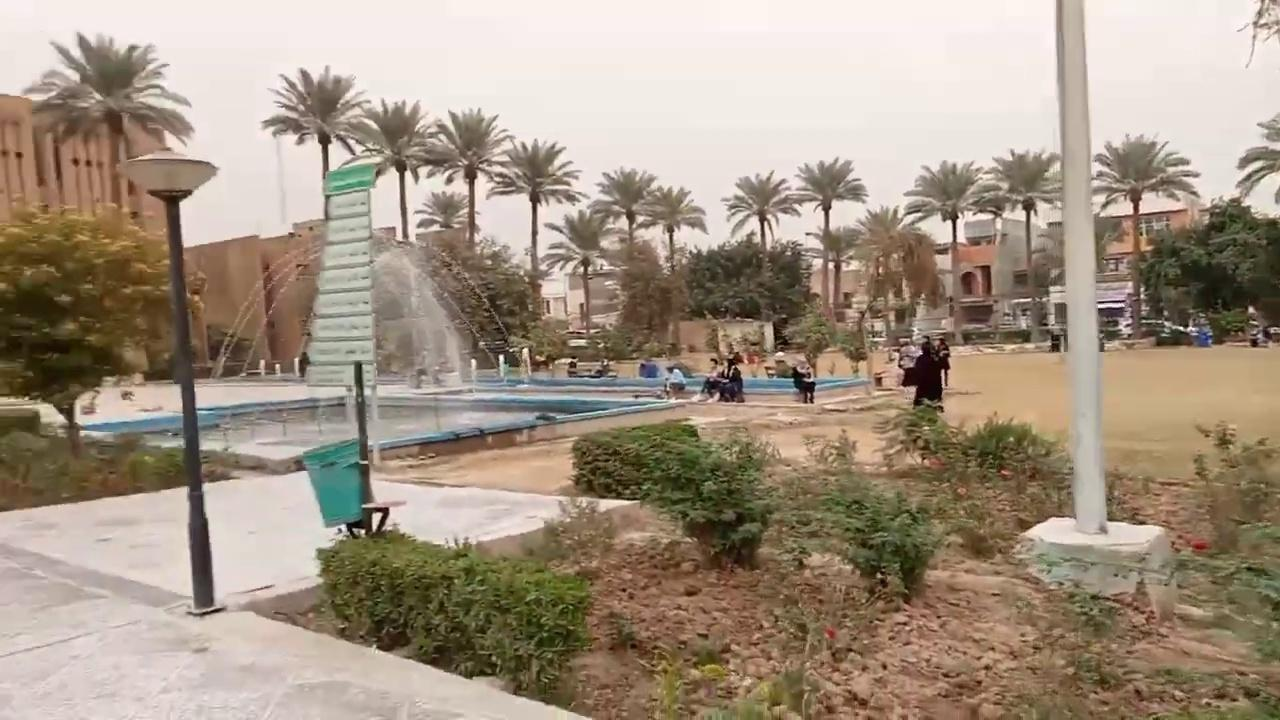fountain: (71, 157, 682, 467), (70, 365, 685, 462)
person: (910, 341, 949, 412), (691, 357, 724, 403), (718, 359, 744, 403), (792, 358, 816, 403), (935, 336, 950, 388), (665, 365, 686, 398), (566, 356, 578, 377)
tree: (0, 195, 204, 456), (25, 30, 194, 225), (1090, 132, 1200, 339), (1134, 193, 1279, 342), (901, 159, 1000, 342), (485, 137, 583, 315), (975, 147, 1063, 342), (259, 64, 370, 218), (682, 237, 810, 360), (721, 168, 801, 353), (342, 96, 438, 241), (417, 106, 514, 245), (791, 155, 868, 325), (636, 184, 708, 350), (587, 165, 658, 324), (852, 204, 929, 342), (1234, 111, 1279, 326), (607, 237, 683, 356), (541, 208, 611, 335), (720, 168, 801, 249), (806, 223, 860, 321), (1234, 111, 1279, 208), (898, 227, 941, 328), (784, 306, 832, 377), (1236, 0, 1279, 68), (413, 189, 468, 231), (838, 310, 871, 376)
